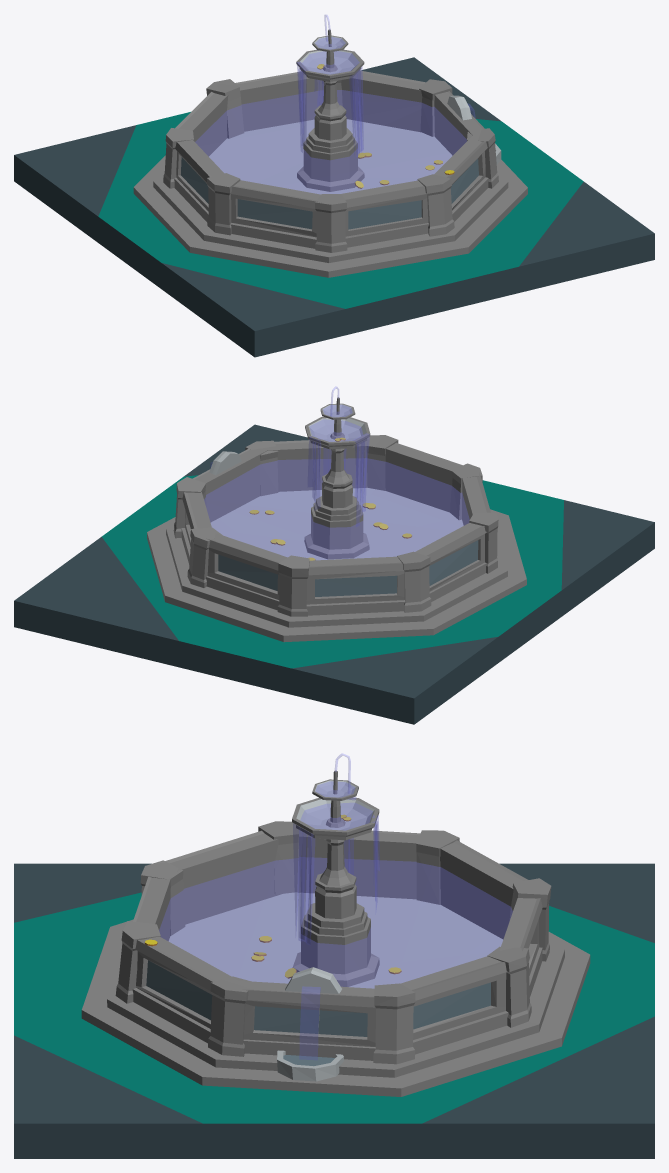
The model's file is fountain.glb.
3 renders of one model, top to bottom at view 1: azimuth 30°, elevation 25°; view 2: azimuth 150°, elevation 25°; view 3: azimuth 270°, elevation 25°, orthographic. The views are drawn at different scales.
Visible parts, largest first — view 1: node_MeshObject1311891456-PolyPaper22, node_MeshObject1883970560-PolyGlass24; view 2: node_MeshObject1311891456-PolyPaper22, node_MeshObject1883970560-PolyGlass24; view 3: node_MeshObject1311891456-PolyPaper22, node_MeshObject1883970560-PolyGlass24.
Boxes of the visible parts, x1,y1,x2,y2 form: node_MeshObject1311891456-PolyPaper22: [14, 29, 654, 357]; node_MeshObject1883970560-PolyGlass24: [195, 15, 475, 193]; node_MeshObject1311891456-PolyPaper22: [14, 397, 654, 724]; node_MeshObject1883970560-PolyGlass24: [204, 386, 469, 560]; node_MeshObject1311891456-PolyPaper22: [14, 770, 654, 1158]; node_MeshObject1883970560-PolyGlass24: [159, 753, 512, 1059].
Bounding box in the file's own units: 1.43 × 0.6994 × 1.49.
